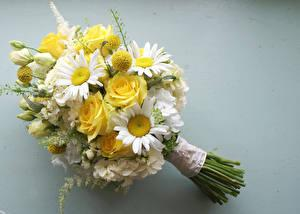chamomile: (58, 41, 103, 99), (117, 108, 166, 151), (125, 45, 166, 74)
